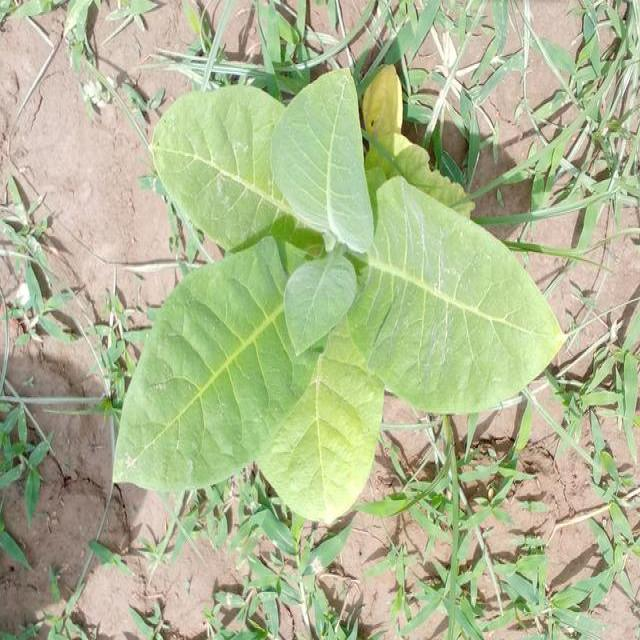crop: (110, 68, 568, 522)
